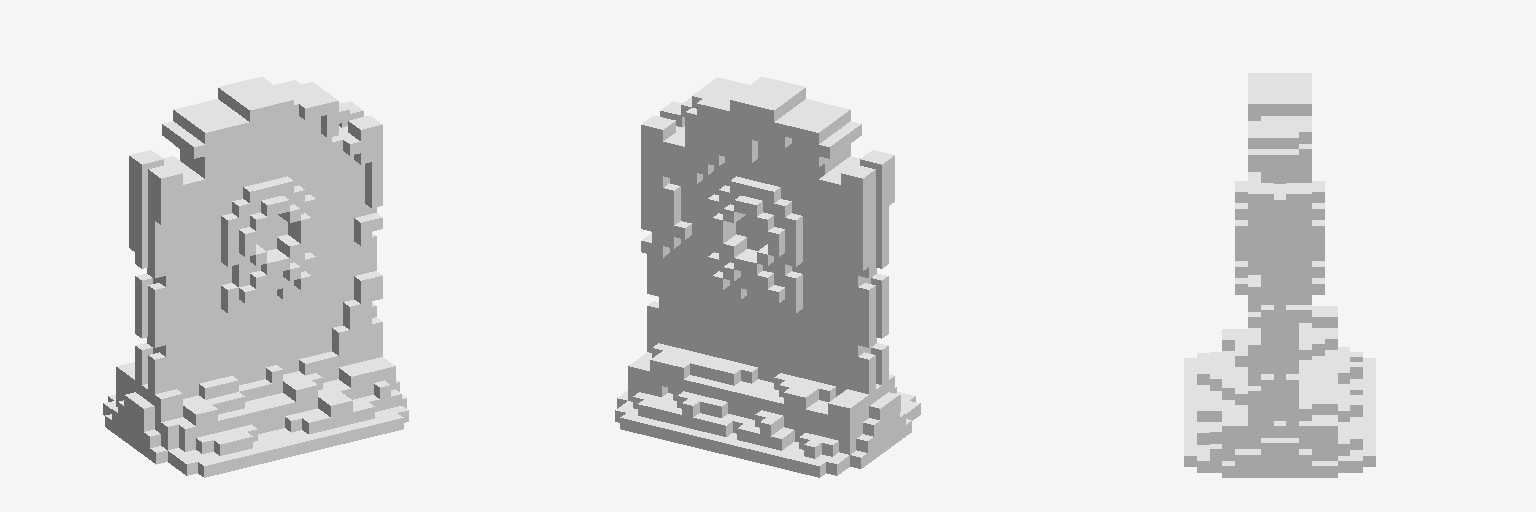
The model's file is RuneStone1.obj.
3 views of the same model, side by side, from view 1: azimuth 30°, elevation 25°; view 2: azimuth 150°, elevation 25°; view 3: azimuth 270°, elevation 25° (orthographic).
Visible parts, largest first — view 1: object 1; view 2: object 1; view 3: object 1.
Boxes of the visible parts, x1=… form: object 1: x1=103, y1=77, x2=408, y2=477; object 1: x1=615, y1=77, x2=920, y2=477; object 1: x1=1184, y1=73, x2=1375, y2=477.
Bounding box in the file's own units: 2.2 × 2.8 × 1.5.